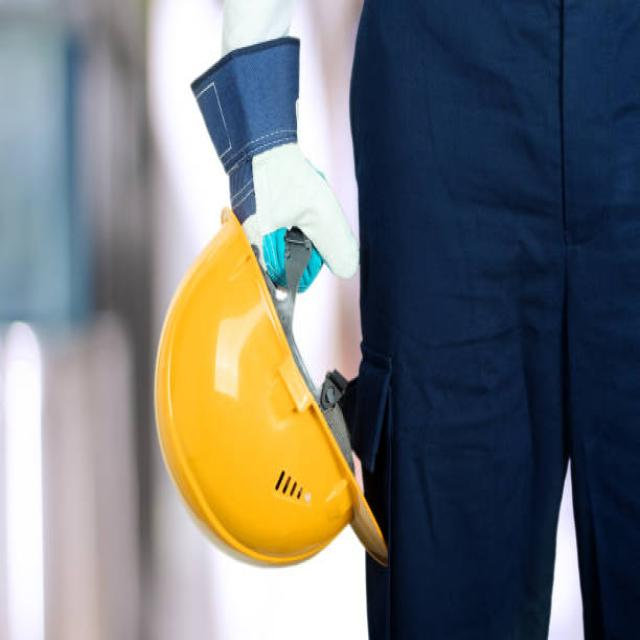gloves: (190, 32, 359, 294)
